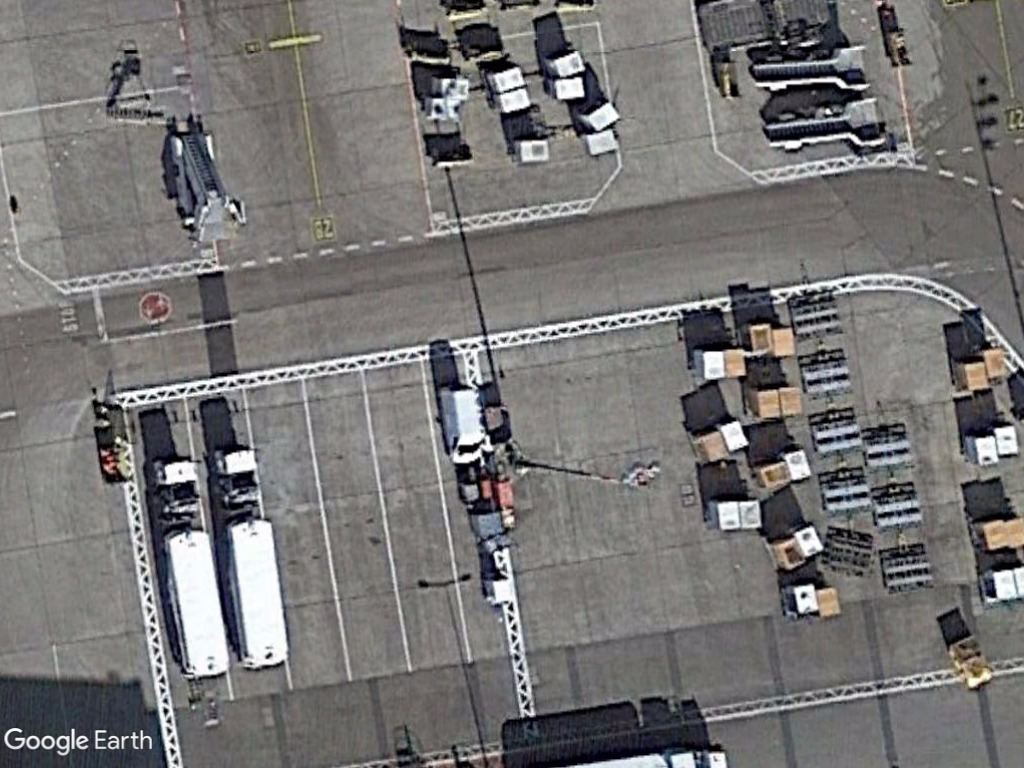longvehicle: (222, 513, 296, 677), (160, 524, 232, 679)
stairtruck: (167, 120, 248, 248), (761, 91, 893, 157), (746, 40, 875, 98)
van: (435, 378, 490, 472)
